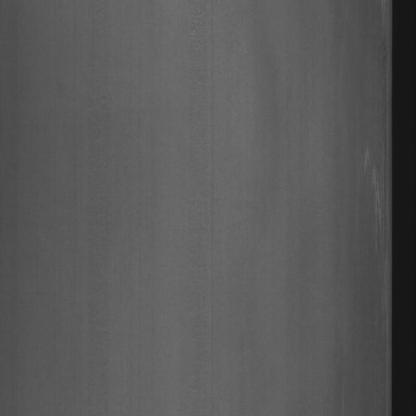silk_spot: (350, 131, 388, 259)
